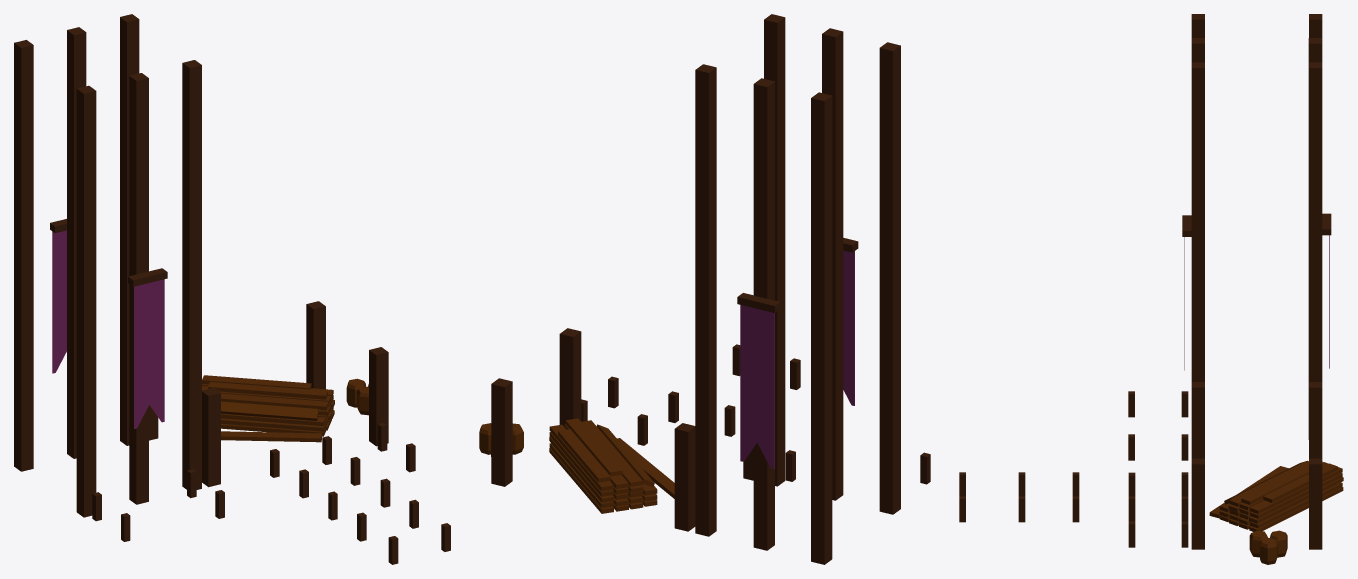
The model's file is PortBuildPhase1v1.fbx.
3 views of the same model, side by side, from view 1: azimuth 30°, elevation 25°; view 2: azimuth 150°, elevation 25°; view 3: azimuth 270°, elevation 25° (orthographic). The views are drawn at different scales.
Parts seen in each view (by area): view 1: Cube.3796; view 2: Cube.3796; view 3: Cube.3796.
Part boxes in pixels (x1=…): Cube.3796: x1=14, y1=14, x2=450, y2=564; Cube.3796: x1=479, y1=14, x2=930, y2=564; Cube.3796: x1=959, y1=14, x2=1343, y2=564.
Bounding box in the file's own units: 187 × 221 × 194.
